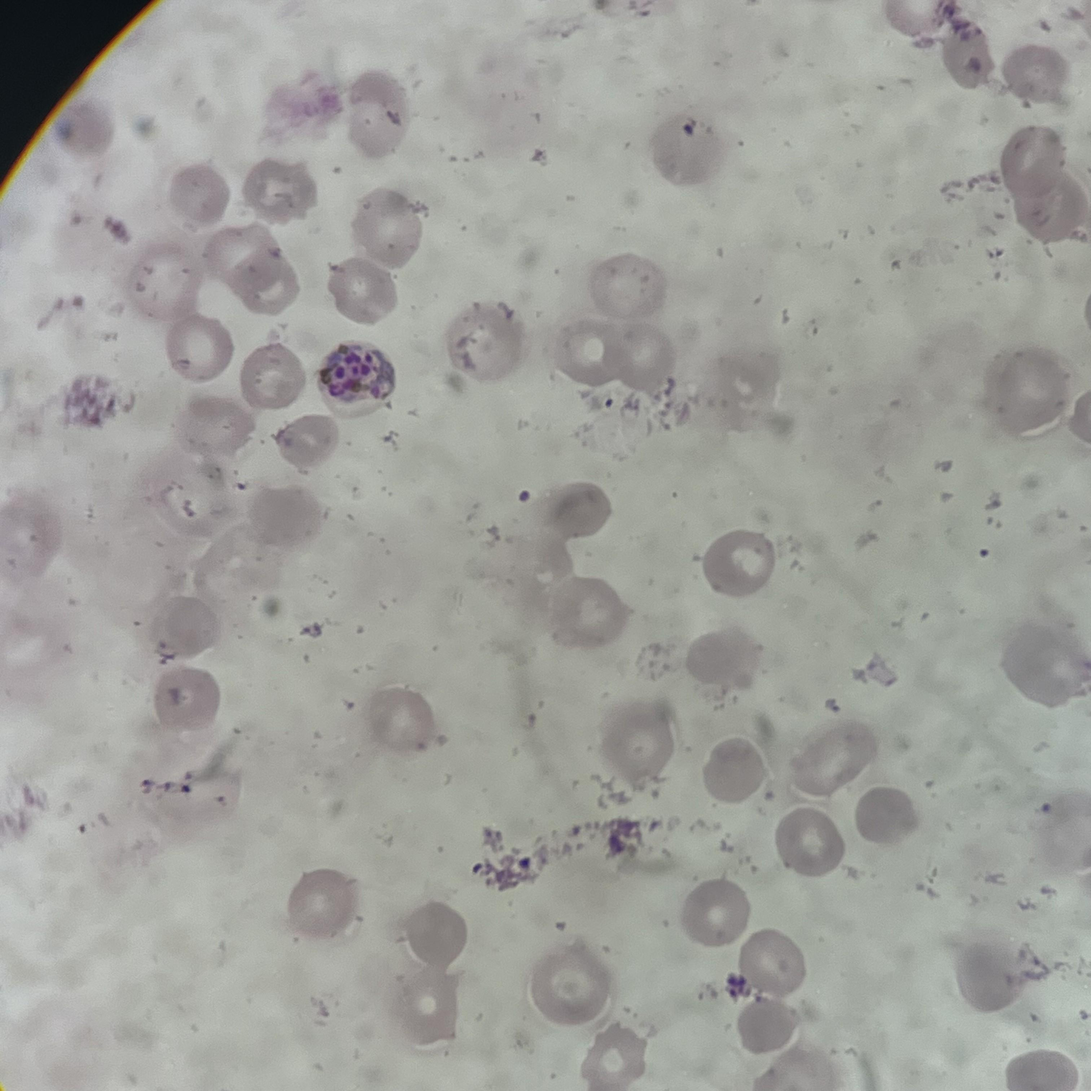Infected: (319, 338, 397, 419)
Uninfected: (1000, 624, 1088, 711), (448, 298, 528, 385), (527, 943, 609, 1025), (794, 720, 874, 799), (1000, 344, 1071, 432), (550, 573, 629, 649), (353, 187, 422, 272), (596, 701, 672, 776), (593, 253, 666, 327), (1002, 122, 1071, 199), (1012, 167, 1084, 240), (289, 866, 357, 942), (347, 67, 405, 155), (205, 221, 277, 291), (576, 1023, 650, 1091), (328, 257, 396, 329), (773, 807, 845, 875), (148, 598, 224, 661), (704, 529, 773, 598), (553, 320, 623, 387), (243, 160, 316, 224), (683, 878, 751, 945), (687, 626, 756, 692), (365, 687, 434, 752), (167, 315, 231, 385), (241, 342, 303, 410), (742, 928, 802, 998), (153, 670, 224, 729), (405, 902, 468, 968), (233, 249, 298, 312), (702, 738, 764, 804), (1004, 41, 1069, 103), (278, 412, 338, 470), (855, 788, 916, 845), (169, 164, 227, 223), (619, 326, 672, 390), (740, 1000, 798, 1056), (1007, 1048, 1082, 1091)
